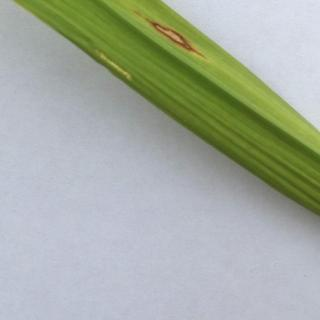Blast: (128, 6, 222, 85)
